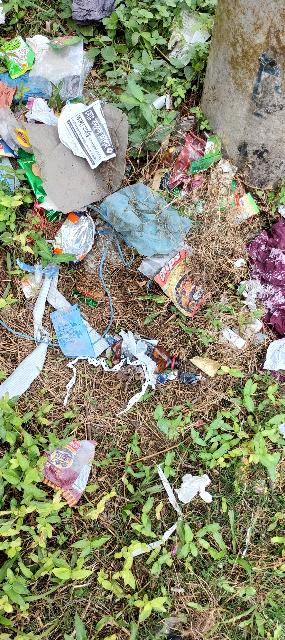packet: (151, 249, 225, 317), (47, 428, 91, 510)
